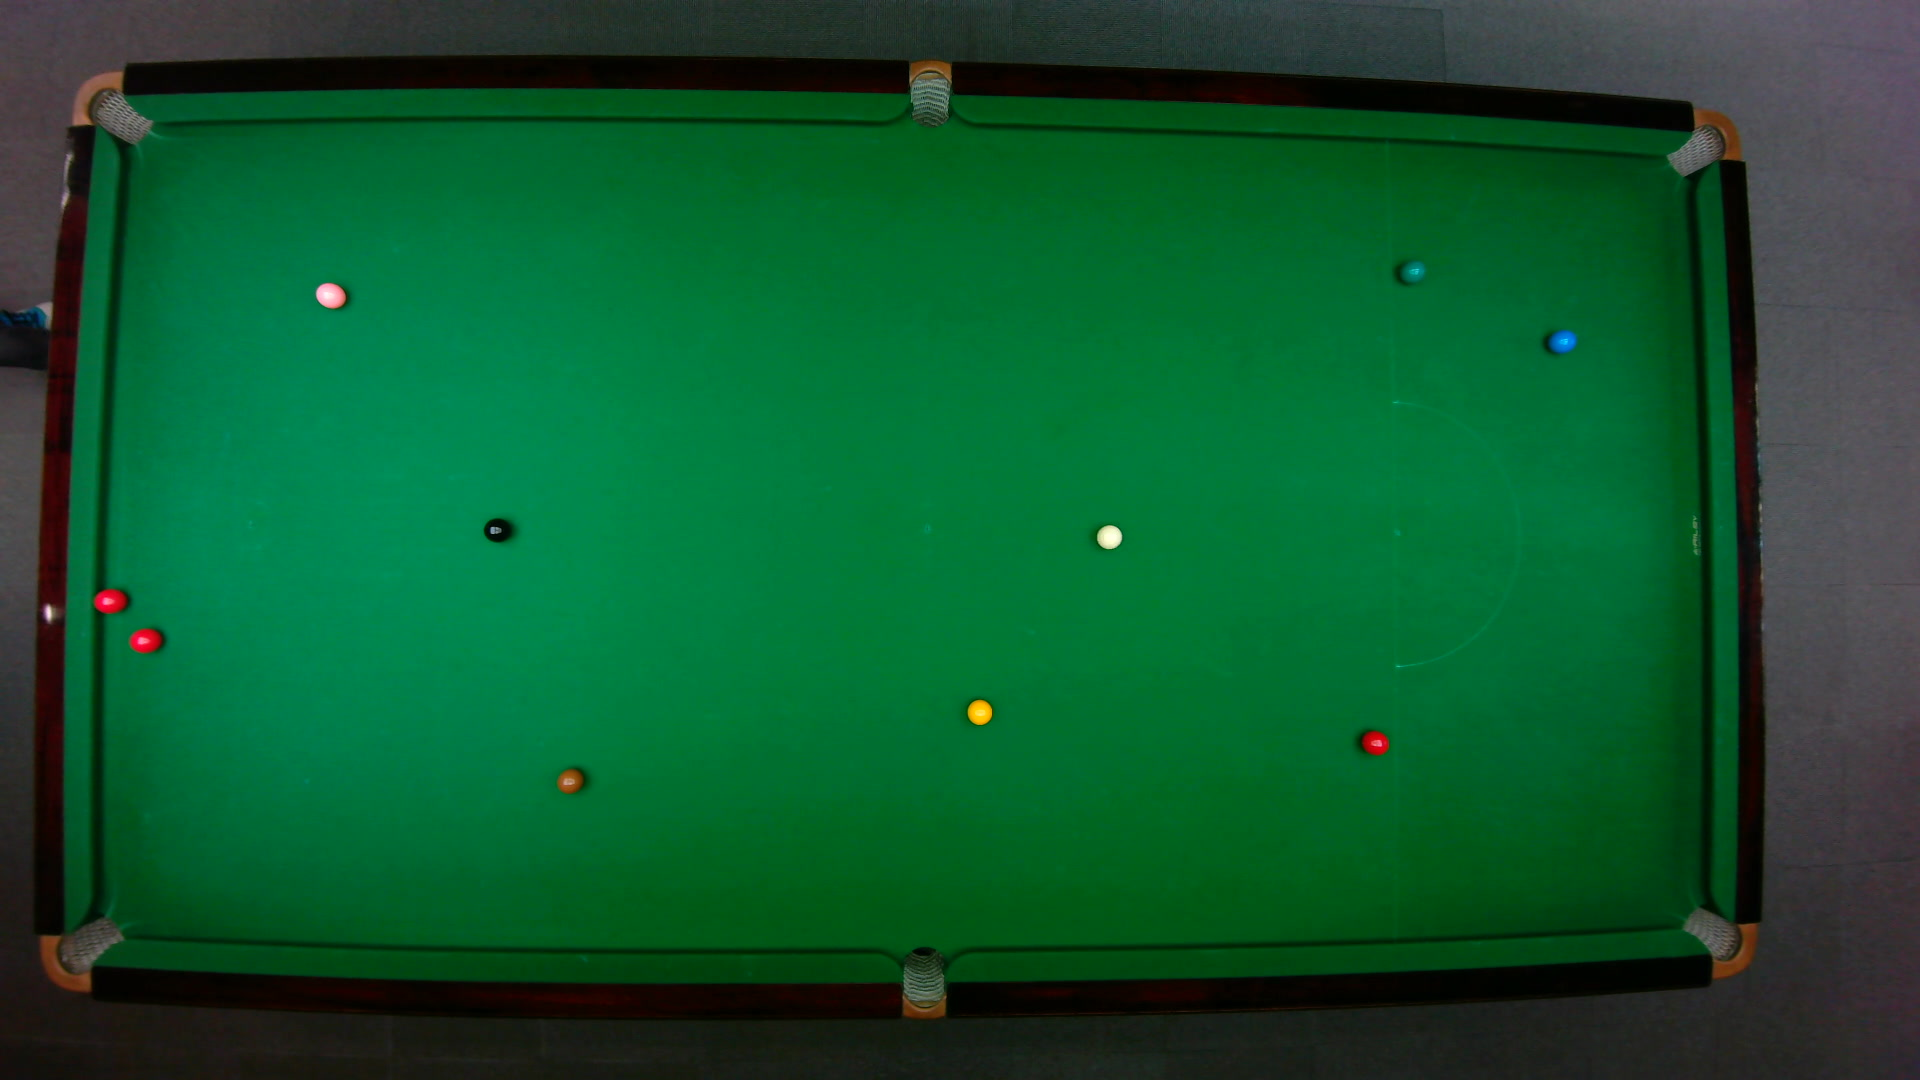bag: (38, 914, 125, 992), (69, 69, 153, 145), (1679, 905, 1756, 978), (1663, 107, 1742, 177), (901, 944, 944, 1021), (909, 58, 949, 128)
black: (481, 516, 512, 542)
blue: (1545, 327, 1577, 353)
brown: (555, 766, 584, 794)
green: (1396, 258, 1425, 284)
pink: (313, 280, 347, 310)
red: (91, 585, 128, 613), (127, 626, 164, 653), (1360, 728, 1390, 756)
white: (1095, 522, 1124, 549)
yellow: (964, 696, 993, 727)
zone: (1390, 398, 1520, 669)
